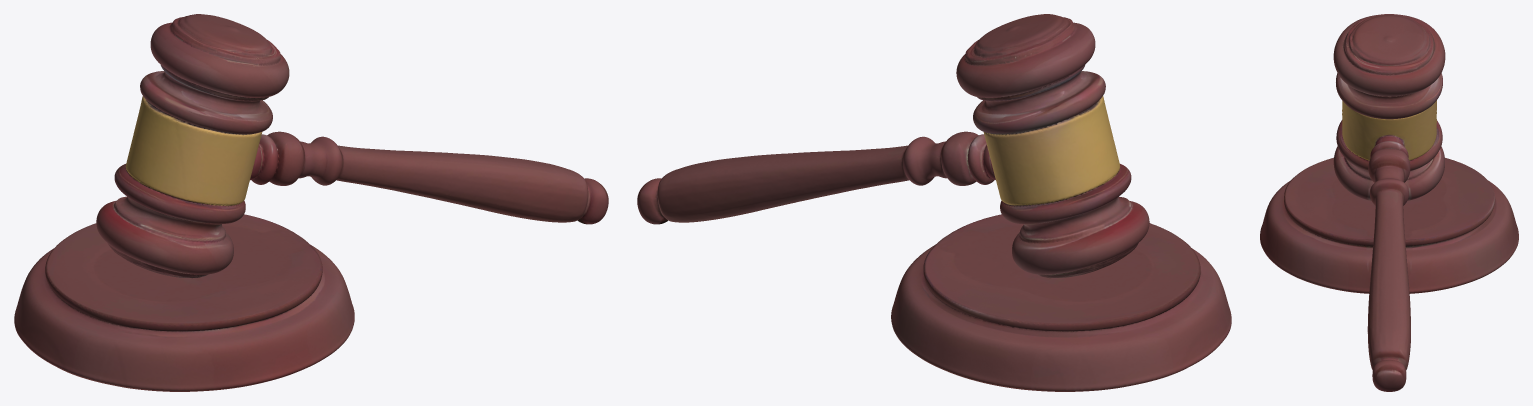
The model's file is judicial-gavel.glb.
3 views of the same model, side by side, from view 1: azimuth 30°, elevation 25°; view 2: azimuth 150°, elevation 25°; view 3: azimuth 270°, elevation 25° (orthographic). The views are drawn at different scales.
Visible parts, largest first — view 1: tripo_node_967fcb3e-8e01-4429-8e12-0eedd6a1f6b5; view 2: tripo_node_967fcb3e-8e01-4429-8e12-0eedd6a1f6b5; view 3: tripo_node_967fcb3e-8e01-4429-8e12-0eedd6a1f6b5.
Part boxes in pixels (left/top/right/bottom): tripo_node_967fcb3e-8e01-4429-8e12-0eedd6a1f6b5: left=14, top=14, right=608, bottom=391; tripo_node_967fcb3e-8e01-4429-8e12-0eedd6a1f6b5: left=637, top=14, right=1231, bottom=391; tripo_node_967fcb3e-8e01-4429-8e12-0eedd6a1f6b5: left=1260, top=14, right=1518, bottom=391.
Size of the model in its own units: 1 by 0.4995 by 0.5097.
Materials: 1 (1 with a texture image).
